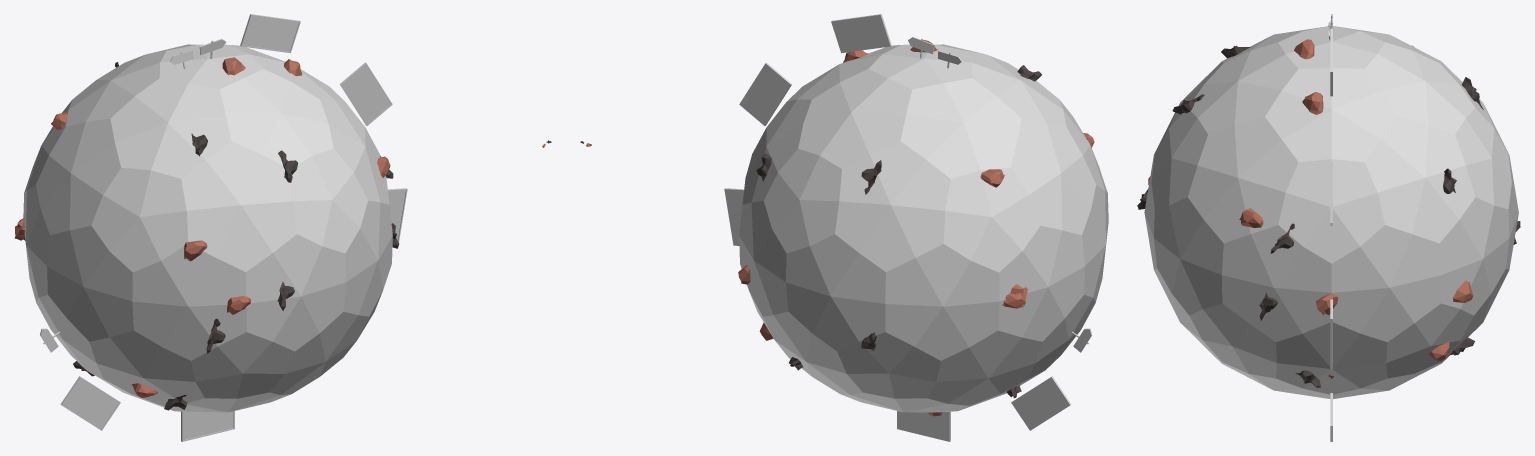
File: rishab2.fbx
The picture shows the model from 3 angles, left to right: view 1: azimuth 30°, elevation 25°; view 2: azimuth 150°, elevation 25°; view 3: azimuth 270°, elevation 25°; orthographic projection.
Visible parts, largest first — view 1: Icosphere, Cube.001, Cube.005, Cube.006, Cube.002, Cube.004; view 2: Icosphere, Cube.001, Cube.005, Cube.006, Cube.002, Cube.004; view 3: Icosphere.
Boxes of the visible parts, bbox=[...] form: Icosphere: bbox=[23, 44, 392, 412]; Cube.001: bbox=[240, 14, 300, 53]; Cube.005: bbox=[340, 62, 392, 125]; Cube.006: bbox=[60, 376, 120, 430]; Cube.002: bbox=[181, 411, 234, 441]; Cube.004: bbox=[387, 188, 407, 242]; Icosphere: bbox=[739, 44, 1108, 412]; Cube.001: bbox=[831, 14, 891, 53]; Cube.005: bbox=[739, 62, 791, 125]; Cube.006: bbox=[1011, 376, 1071, 430]; Cube.002: bbox=[897, 411, 950, 441]; Cube.004: bbox=[724, 188, 744, 245]; Icosphere: bbox=[1144, 26, 1518, 398].
Size of the model in its own units: 4397 by 3372 by 2840.
